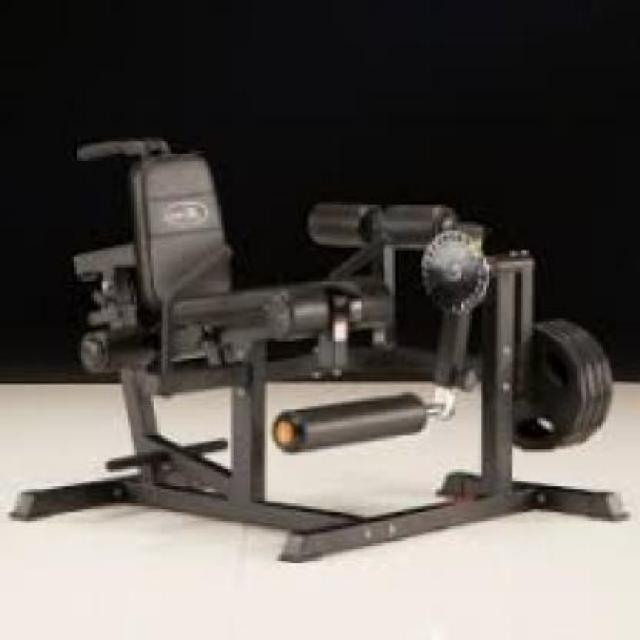leg extension: (9, 92, 640, 591)
